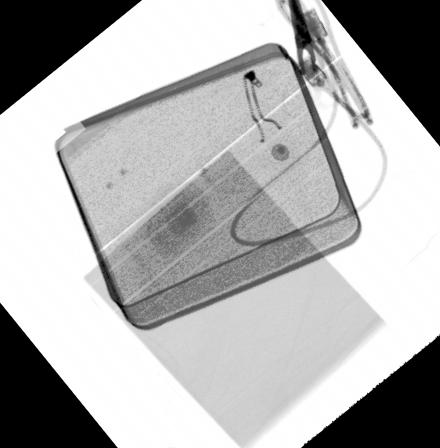Scissors: (280, 0, 344, 123)
